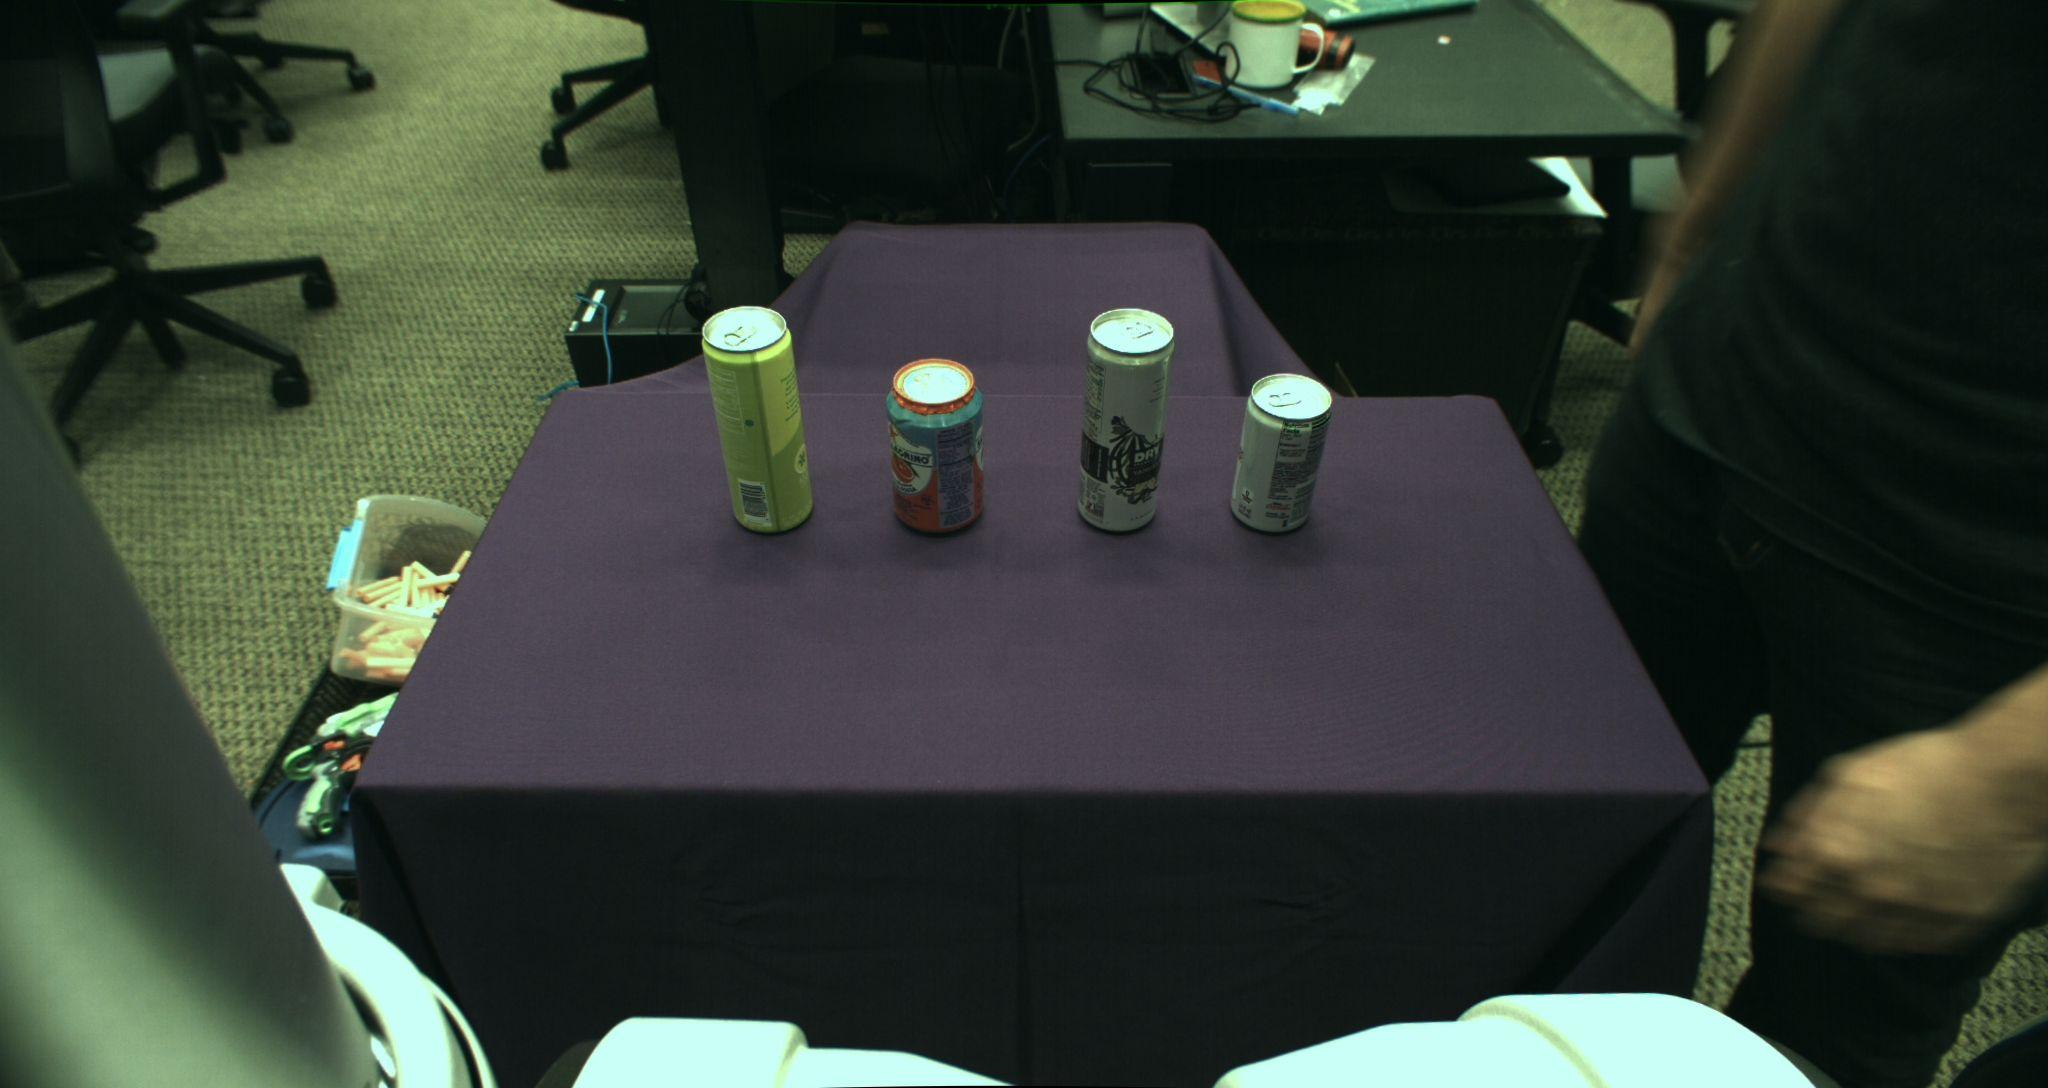can_diet_coke_small: (1231, 374, 1331, 534)
can_dry_sparkling_vanilla_bean: (1078, 306, 1174, 532)
can_izze_fusions_lemon_lime: (702, 304, 813, 534)
can_sanpellegrino_blood_orange: (887, 356, 985, 534)
